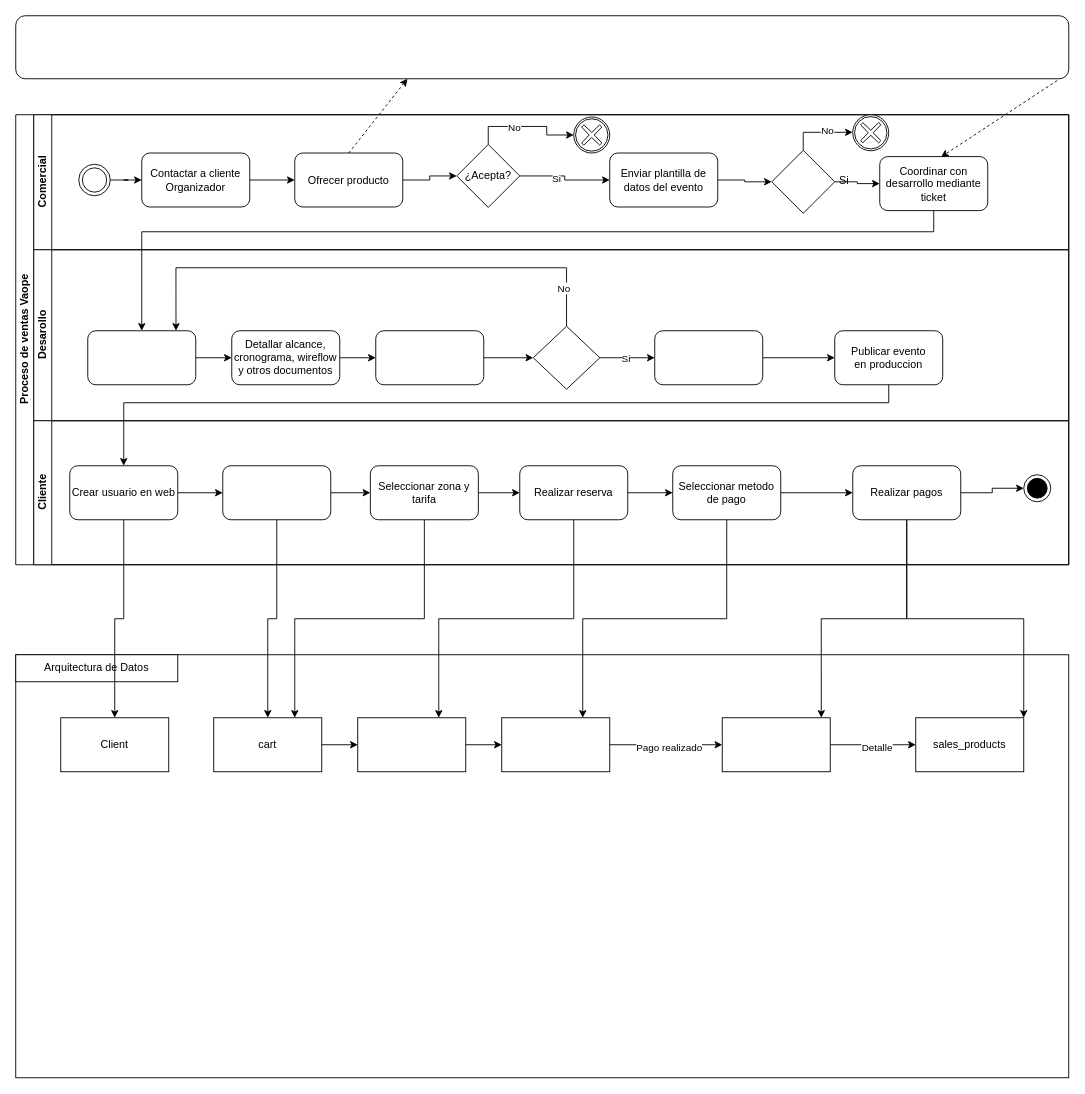
Image size: 1085x1094. Some labels were removed from this diagram. Each missing label, with the centre of its shape:
carts_products: (411,744)
carts_transactions: (555,744)
Desarrollar solicitud en base a RQ: (708,357)
Organizador: (542,47)
Programar reunion de validacion de alcance: (429,357)
Revisar ticket de solicitud: (141,357)
sales: (775,744)
Seleccionar evento: (276,492)
¿Valida ok?: (803,181)
¿Validado ok?: (566,357)
